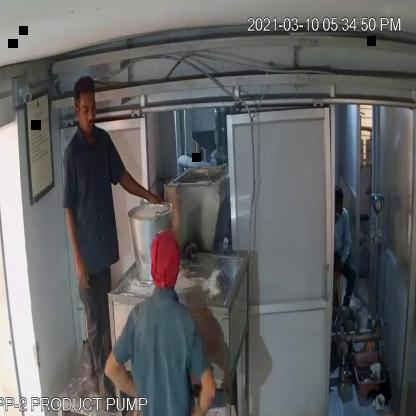no_glove: (61, 191, 92, 296), (100, 345, 145, 416), (111, 158, 161, 218), (191, 349, 218, 416)
